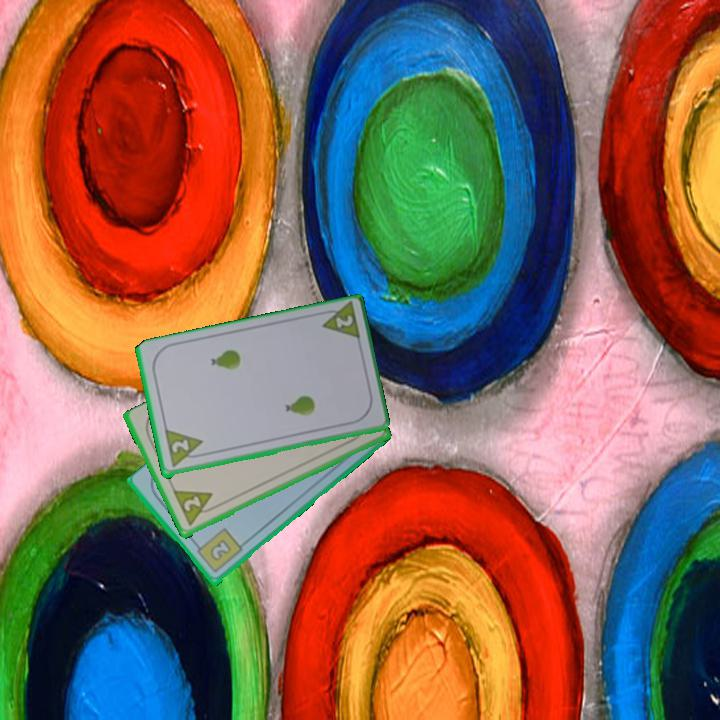2b: (191, 525, 245, 576)
2p: (170, 487, 221, 529), (168, 436, 191, 456), (332, 312, 356, 331)
